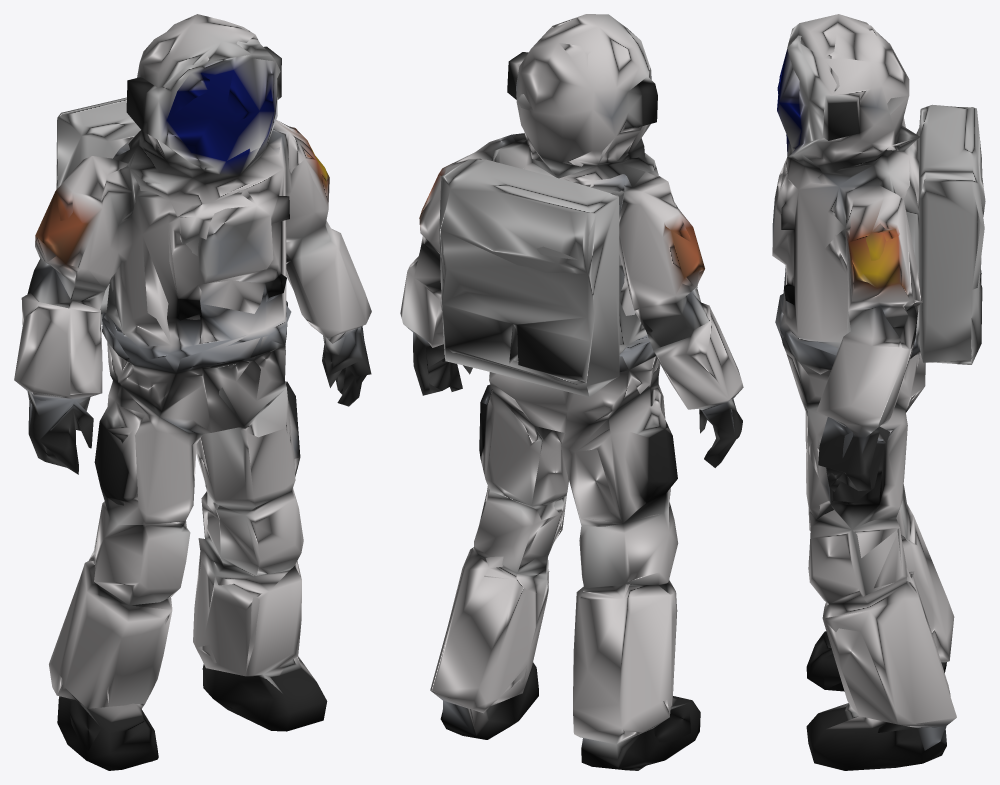
File: gen3d-space-suit-lod0.glb
The picture shows the model from 3 angles, left to right: view 1: azimuth 30°, elevation 25°; view 2: azimuth 150°, elevation 25°; view 3: azimuth 270°, elevation 25°; orthographic projection. The views are drawn at different scales.
Parts seen in each view (by area): view 1: part_0; view 2: part_0; view 3: part_0.
Part boxes in pixels (x1,y1,x2,y2): part_0: (14, 14, 371, 770); part_0: (400, 14, 743, 770); part_0: (772, 14, 985, 770).
Bounding box in the file's own units: 0.4951 × 0.9979 × 0.2771.
